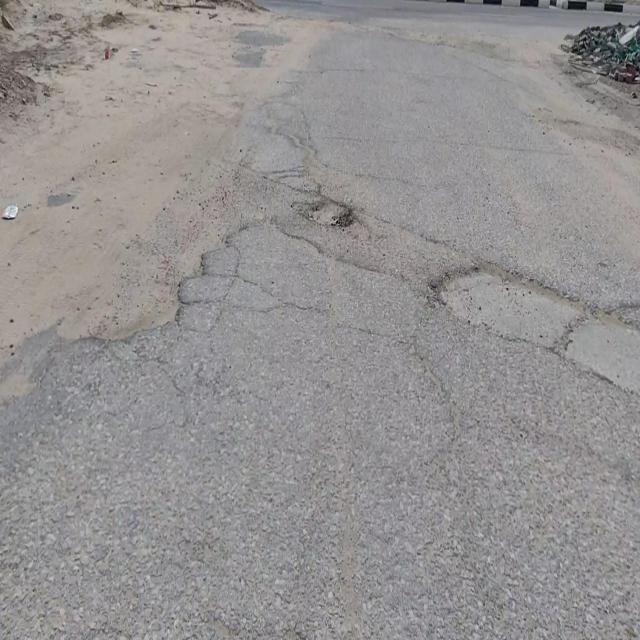Potholes: (432, 262, 589, 355), (56, 264, 201, 346), (294, 194, 354, 231)
